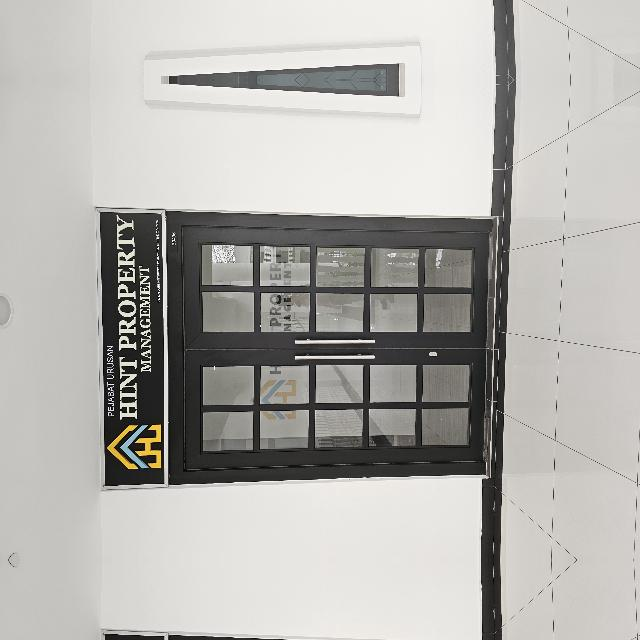door: (72, 243, 352, 579), (72, 541, 351, 640)
